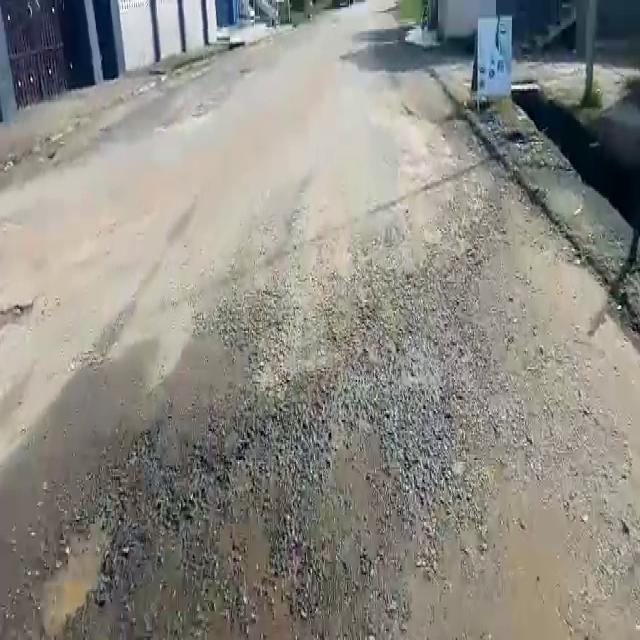Pothole: (37, 508, 122, 628)
